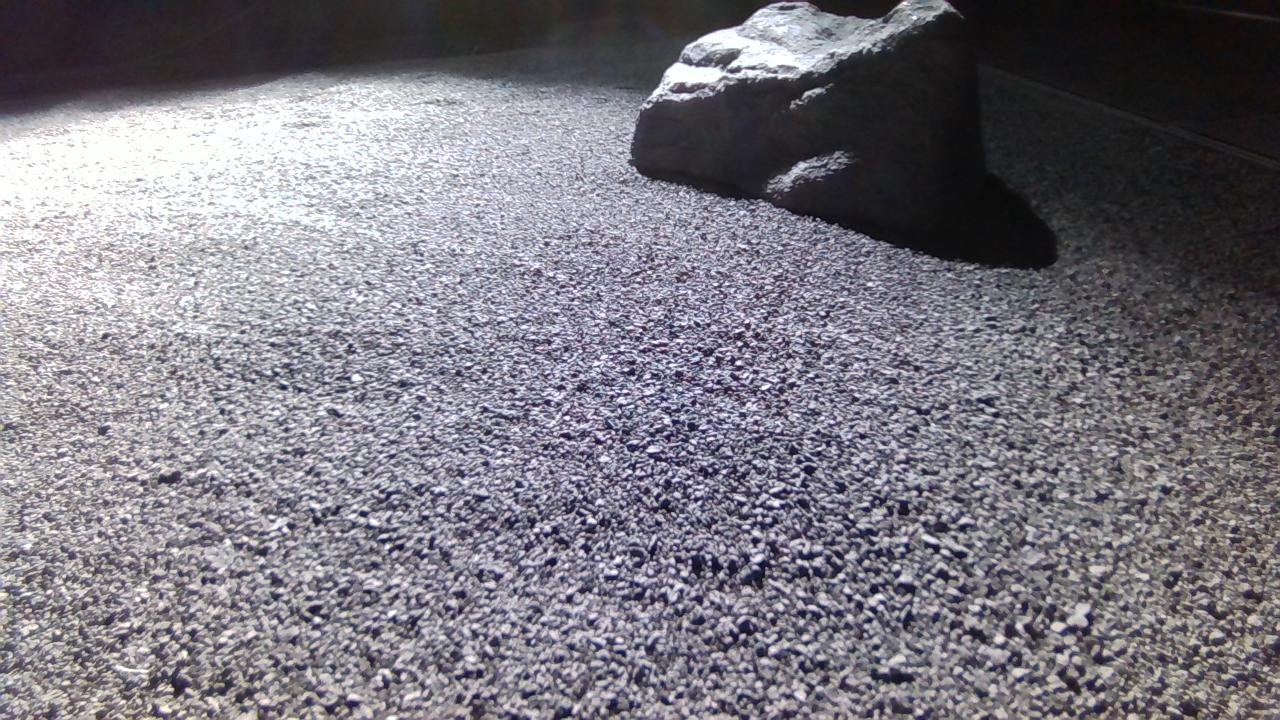rock: (633, 0, 987, 230)
